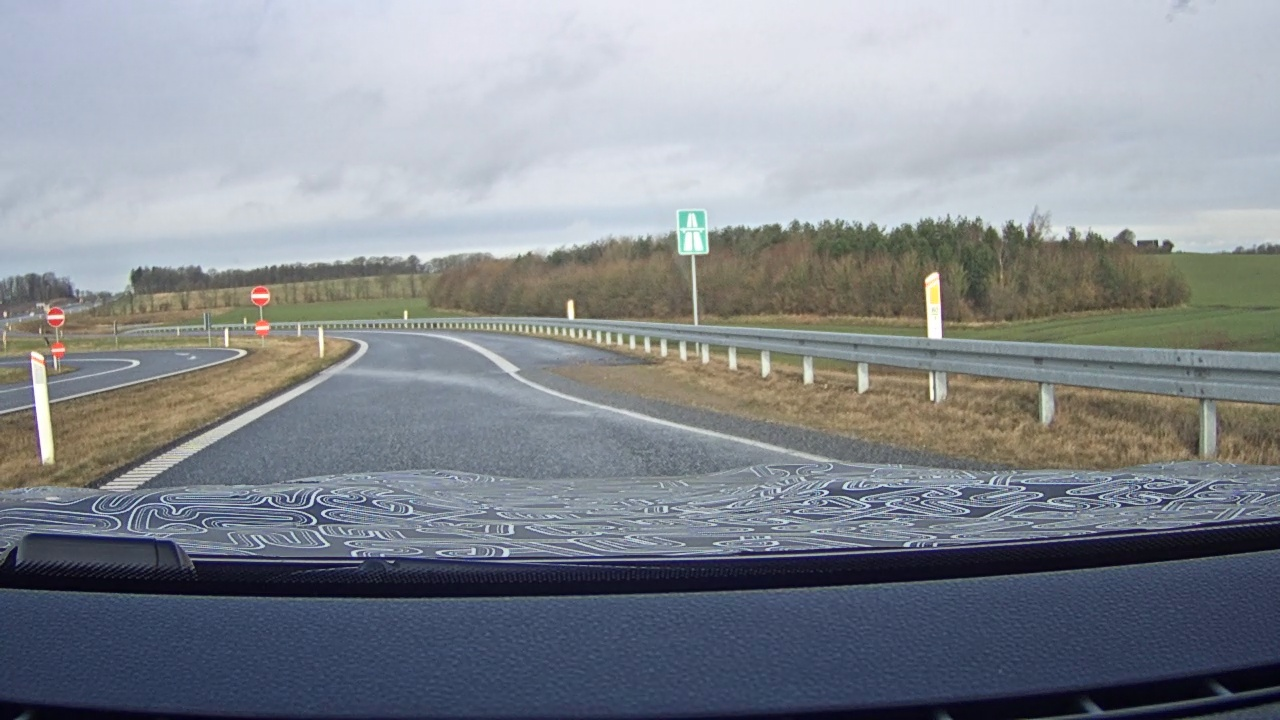Motorway_Begin: (676, 208, 710, 256)
